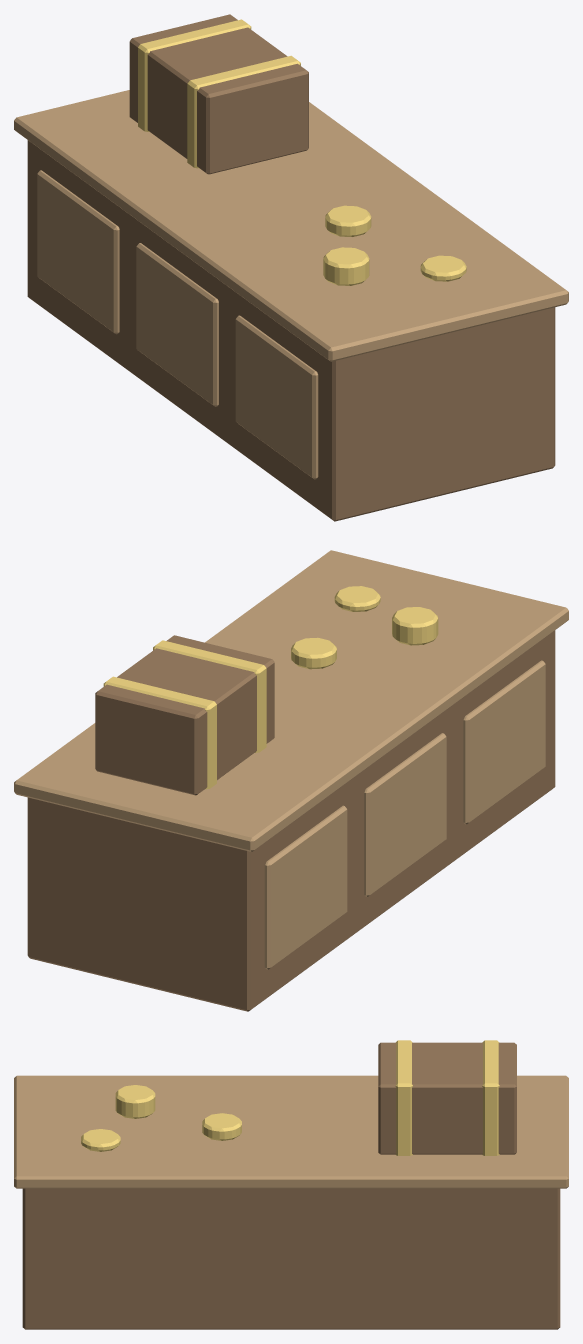
Rendered from HubCounter.fbx.
3 renders of one model, top to bottom at view 1: azimuth 30°, elevation 25°; view 2: azimuth 150°, elevation 25°; view 3: azimuth 270°, elevation 25°, orthographic. The views are drawn at different scales.
Parts seen in each view (by area): view 1: HubCounter; view 2: HubCounter; view 3: HubCounter.
Part boxes in pixels (left/top/right/bottom): HubCounter: left=14, top=14, right=568, bottom=521; HubCounter: left=14, top=550, right=568, bottom=1011; HubCounter: left=14, top=1040, right=568, bottom=1329.
Size of the model in its own units: 1.4 by 1.46 by 3.2.
